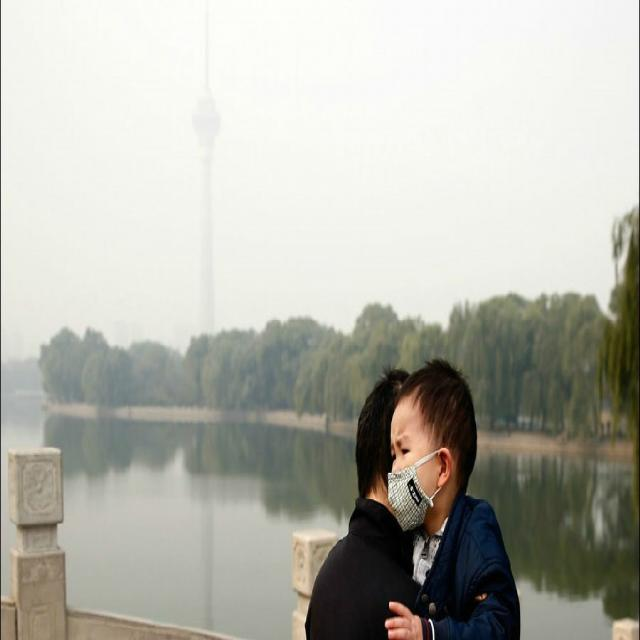mask: (388, 398, 444, 528)
